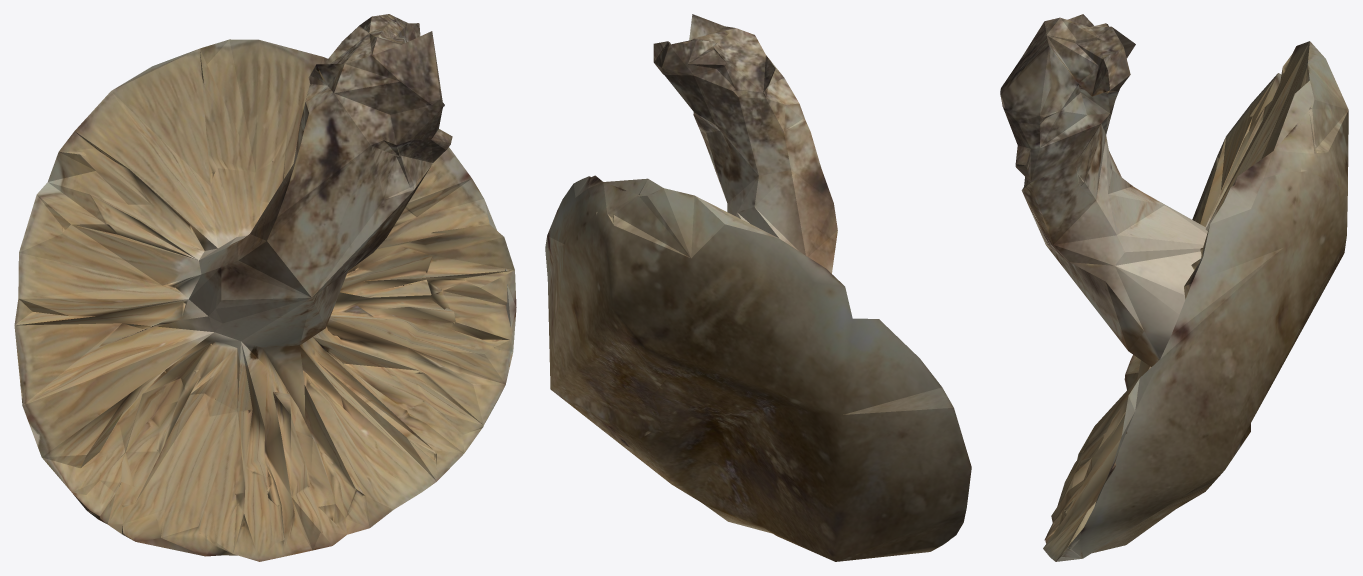
File: Fungi.fbx
The picture shows the model from 3 angles, left to right: view 1: azimuth 30°, elevation 25°; view 2: azimuth 150°, elevation 25°; view 3: azimuth 270°, elevation 25°; orthographic projection. The views are drawn at different scales.
Parts seen in each view (by area): view 1: Fungi; view 2: Fungi; view 3: Fungi.
Part boxes in pixels (box(x1,y1,x2,y2)): Fungi: box(14, 14, 516, 561); Fungi: box(545, 14, 971, 561); Fungi: box(1000, 14, 1348, 561).
Bounding box in the file's own units: 0.3523 × 0.3605 × 0.2042.
Materials: 1 (1 with a texture image).
